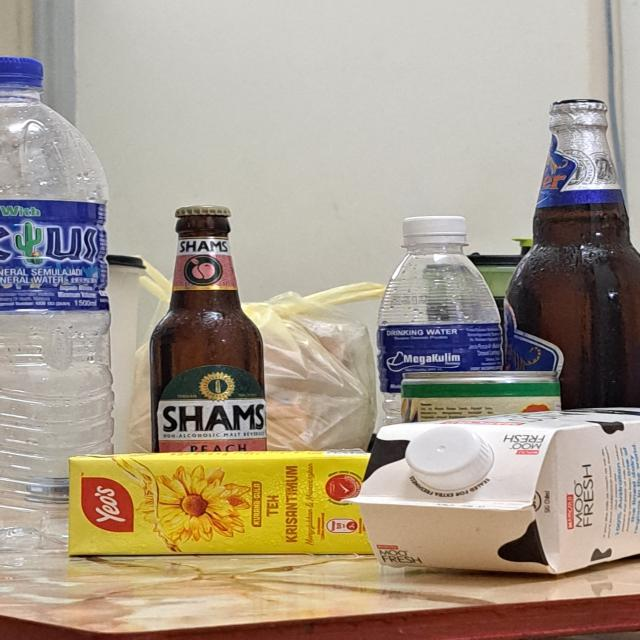can: (401, 363, 562, 446)
drink carton: (355, 405, 640, 572), (71, 450, 397, 560)
glass bottle: (504, 96, 640, 436), (148, 207, 272, 472)
plastic bottle: (0, 94, 118, 567), (381, 251, 507, 447)
plastic bottle cap: (404, 421, 488, 487), (401, 215, 469, 249), (0, 54, 44, 86)
